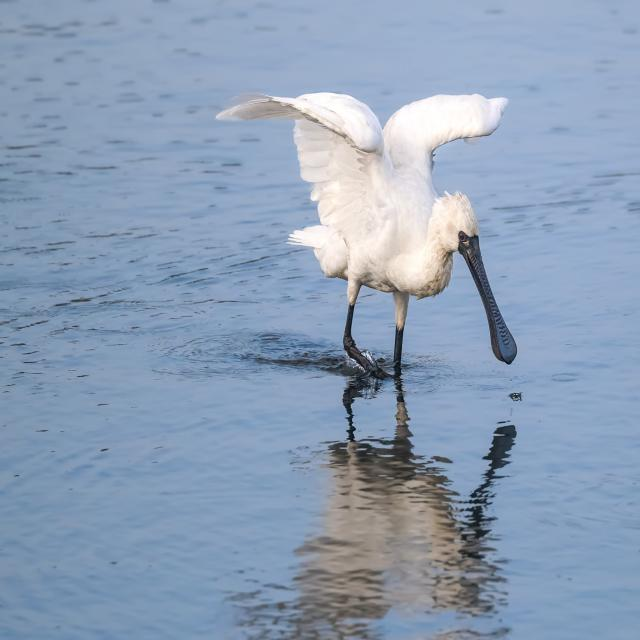Black-faced spoonbill: (218, 93, 516, 377)
